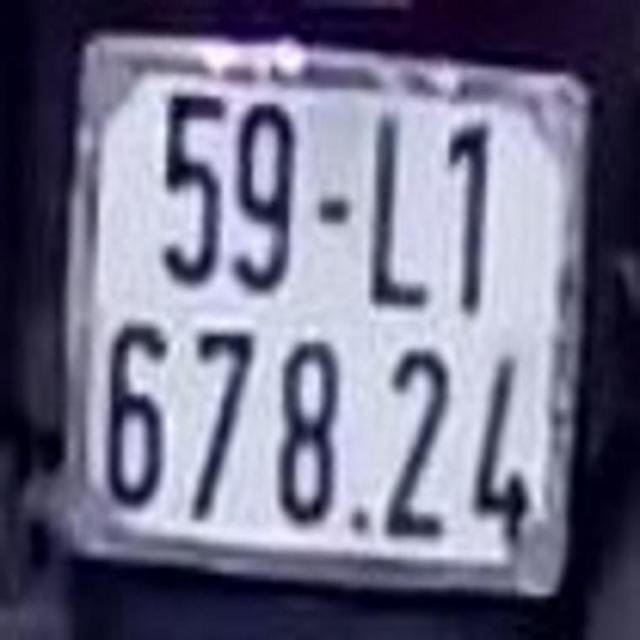1: (446, 114, 494, 320)
2: (384, 334, 446, 536)
4: (465, 350, 539, 550)
5: (162, 87, 225, 288)
6: (106, 314, 167, 504)
7: (184, 320, 252, 524)
8: (280, 338, 340, 528)
9: (229, 98, 293, 296)
L: (362, 102, 433, 316)
